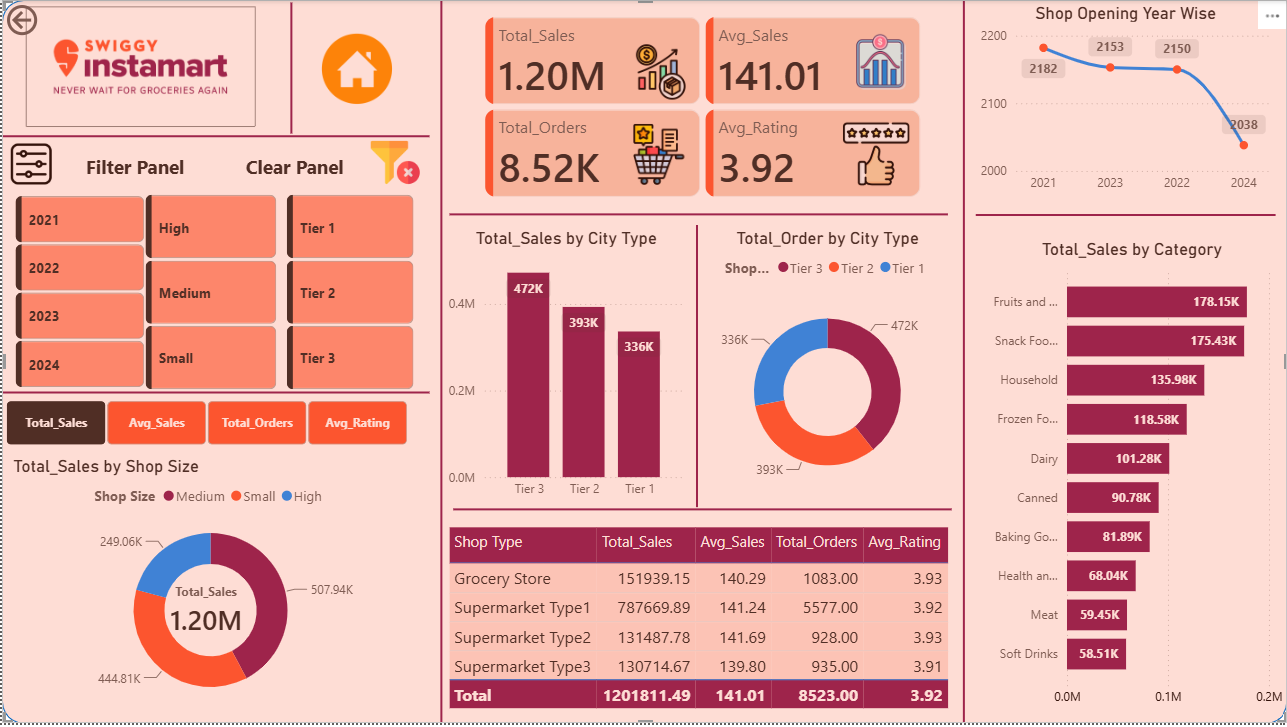

The dashboard page shown, as its layout file describes it:
{"tool":"powerbi","page":{"name":"INSTA MART DASHBOARD","canvas":[1280,720],"ordinal":0},"visuals":[{"type":"shape","box":[0,0,1280,720.3],"z":0},{"type":"image","box":[23.6,0,228.9,133.1],"z":1000},{"type":"cardVisual","fields":{"Data":["Grocery Shop.Total_Sales","Grocery Shop.Avg_Sales","Grocery Shop.Total_Orders","Grocery Shop.Avg_Rating"]},"box":[464,0,467.7,214],"z":2000},{"type":"advancedSlicerVisual","fields":{"Values":["Metrix.Metrix"]},"box":[0,399.3,409.3,43.5],"z":3000},{"type":"donutChart","fields":{"Y":["Grocery Shop.Total_Sales"],"Category":["Grocery Shop.Shop Size"]},"box":[6.2,454,403,257.5],"z":4000},{"type":"cardVisual","fields":{"Data":["Grocery Shop.Total_Sales"]},"box":[138.1,553.6,130.6,107],"z":5000},{"type":"clusteredColumnChart","title":"Total_Sales by City Type","fields":{"Category":["Grocery Shop.Shop City Type"],"Y":["Grocery Shop.Total_Sales"]},"box":[439.1,226.4,245.1,278.6],"z":6000},{"type":"donutChart","title":"Total_Order by City Type","fields":{"Category":["Grocery Shop.Shop City Type"],"Y":["Grocery Shop.Total_Sales"]},"box":[697.9,226.4,247.5,278.6],"z":7000},{"type":"tableEx","fields":{"Values":["Grocery Shop.Shop Type","Grocery Shop.Total_Sales","Grocery Shop.Avg_Sales","Grocery Shop.Total_Orders","Grocery Shop.Avg_Rating"]},"box":[439.1,520,518.7,200.3],"z":8000},{"type":"actionButton","box":[0,0,100,40],"z":9000},{"type":"lineChart","title":"Shop Opening Year Wise","fields":{"Y":["Grocery Shop.Total_Orders"],"Category":["Grocery Shop.Shop Opening Year"]},"box":[969,2.5,298.6,197.8],"z":10000},{"type":"clusteredBarChart","fields":{"Y":["Grocery Shop.Total_Sales"],"Category":["Grocery Shop.Category"]},"box":[969,237.6,311,473.9],"z":11000},{"type":"advancedSlicerVisual","fields":{"Values":["Grocery Shop.Shop Opening Year"]},"box":[8.7,190.3,138.1,200.3],"z":12000},{"type":"advancedSlicerVisual","fields":{"Values":["Grocery Shop.Shop Size"]},"box":[138.1,189.1,140.6,205.3],"z":13000},{"type":"advancedSlicerVisual","fields":{"Values":["Grocery Shop.Shop City Type"]},"box":[278.6,189.1,136.8,204],"z":14000},{"type":"textbox","box":[6.2,148,180.4,36.1],"z":15000},{"type":"image","box":[8.7,135.6,41.1,54.7],"z":16000},{"type":"textbox","box":[237.6,148,171.7,39.8],"z":17000},{"type":"image","box":[367,135.6,48.5,52.2],"z":18000},{"type":"image","box":[307.3,24.9,92.1,87.1],"z":19000},{"type":"shape","box":[0,123.2,425.4,24.9],"z":20000},{"type":"shape","box":[0,378.2,425.4,24.9],"z":21000},{"type":"shape","box":[425.4,0,23.6,720.3],"z":22000},{"type":"shape","box":[945.4,0,23.6,720.3],"z":23000},{"type":"shape","box":[449.1,493.9,496.3,26.1],"z":24000},{"type":"shape","box":[684.2,223.9,14.9,281.1],"z":25000},{"type":"shape","box":[445.3,200.3,496.3,26.1],"z":26000},{"type":"shape","box":[268.7,2.5,38.6,130.6],"z":27000},{"type":"shape","box":[969,207.7,298.6,12.4],"z":28000}]}

Visuals, with their boxes in screenshot pixels (x1, y1, x2, y2), scaled from the page's 1280x720 canvas onto the 1287x727 screenshot:
shape: [0, 0, 1286, 726]
image: [24, 0, 254, 134]
cardVisual - Grocery Shop.Total_Sales x Grocery Shop.Avg_Sales: [467, 0, 937, 216]
advancedSlicerVisual - Metrix.Metrix: [0, 403, 412, 447]
donutChart - Grocery Shop.Total_Sales x Grocery Shop.Shop Size: [6, 458, 411, 718]
cardVisual - Grocery Shop.Total_Sales: [139, 559, 270, 667]
"Total_Sales by City Type" clusteredColumnChart: [442, 229, 688, 510]
"Total_Order by City Type" donutChart: [702, 229, 951, 510]
tableEx - Grocery Shop.Shop Type x Grocery Shop.Total_Sales: [442, 525, 963, 726]
actionButton: [0, 0, 101, 40]
"Shop Opening Year Wise" lineChart: [974, 3, 1275, 202]
clusteredBarChart - Grocery Shop.Total_Sales x Grocery Shop.Category: [974, 240, 1286, 718]
advancedSlicerVisual - Grocery Shop.Shop Opening Year: [9, 192, 148, 394]
advancedSlicerVisual - Grocery Shop.Shop Size: [139, 191, 280, 398]
advancedSlicerVisual - Grocery Shop.Shop City Type: [280, 191, 418, 397]
textbox: [6, 149, 188, 186]
image: [9, 137, 50, 192]
textbox: [239, 149, 412, 190]
image: [369, 137, 418, 190]
image: [309, 25, 402, 113]
shape: [0, 124, 428, 150]
shape: [0, 382, 428, 407]
shape: [428, 0, 451, 726]
shape: [951, 0, 974, 726]
shape: [452, 499, 951, 525]
shape: [688, 226, 703, 510]
shape: [448, 202, 947, 229]
shape: [270, 3, 309, 134]
shape: [974, 210, 1275, 222]
